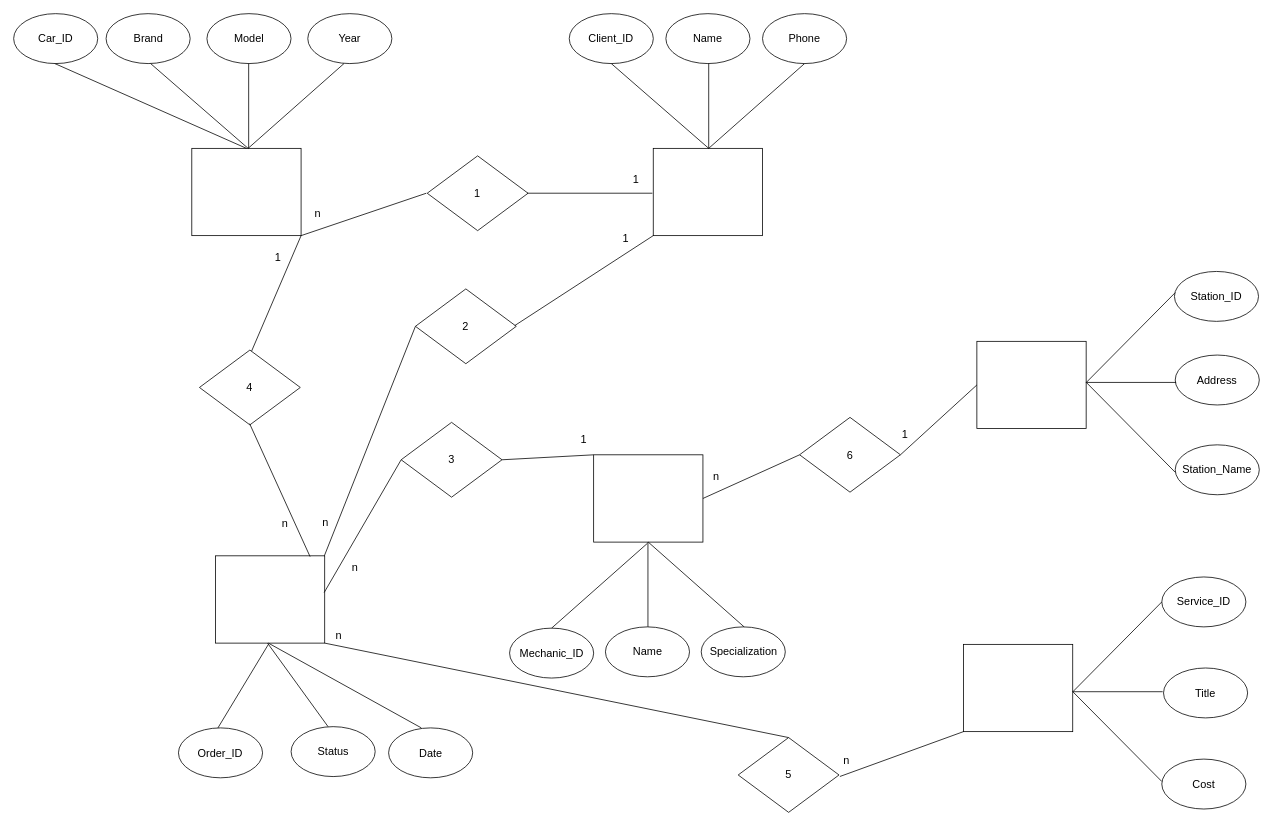
The diagram is 1273 pixels wide and 826 high, and some of its shapes have lost their labels. The box of each missing label's shape, as (x1, y1, x2, y2) in pixels:
Car: (191, 148, 301, 236)
Client: (652, 148, 763, 236)
Mechanic: (593, 454, 703, 542)
Order: (215, 555, 325, 643)
Service: (963, 644, 1073, 732)
Service_Stations: (976, 341, 1086, 429)
